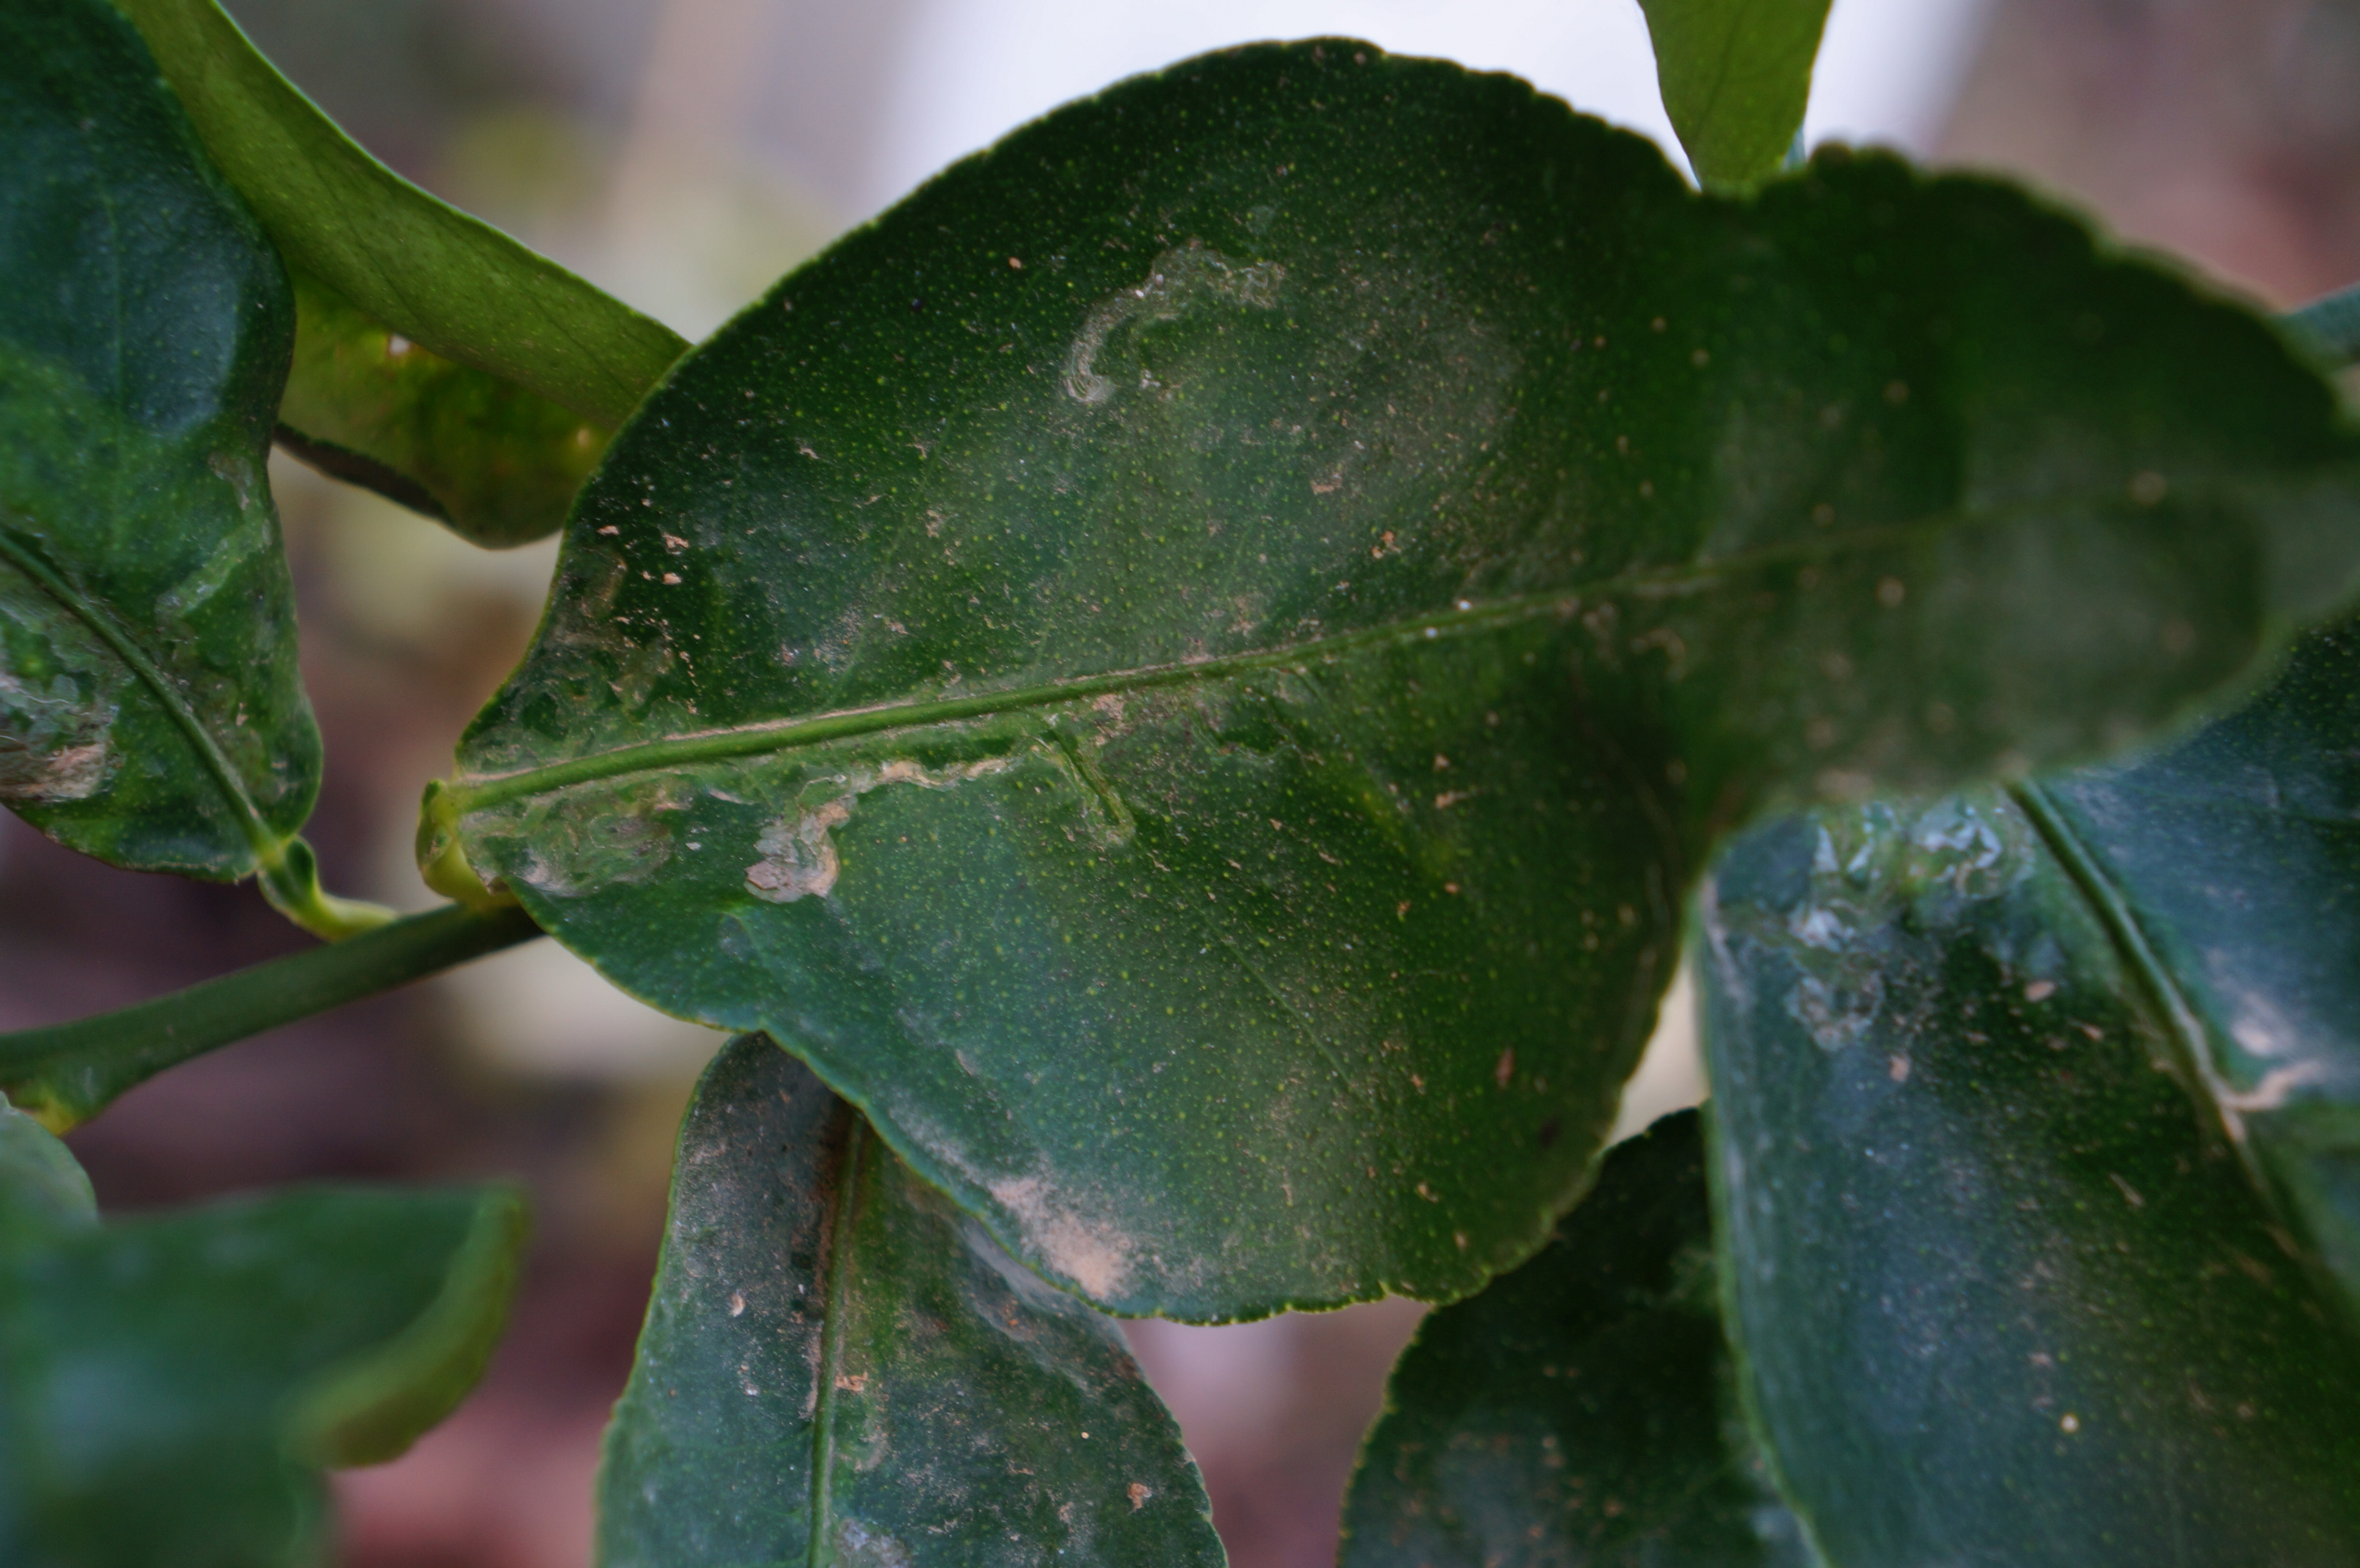damage: (385, 401, 1190, 934)
